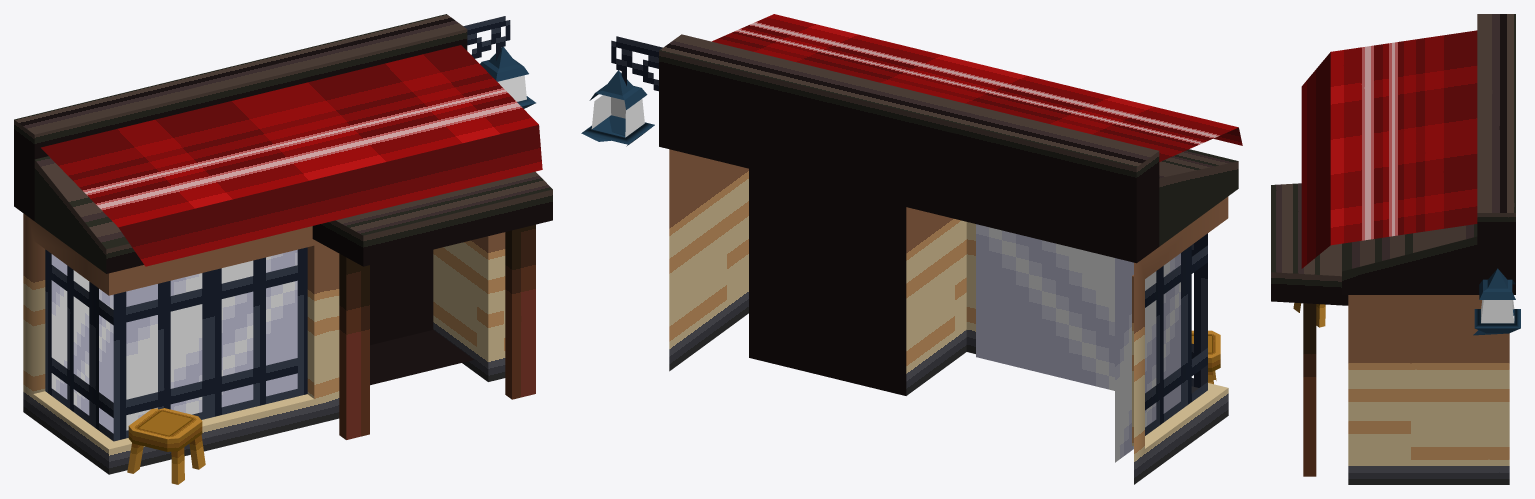
The model's file is pokeblackcafeexterior.fbx.
3 views of the same model, side by side, from view 1: azimuth 30°, elevation 25°; view 2: azimuth 150°, elevation 25°; view 3: azimuth 270°, elevation 25° (orthographic). The views are drawn at different scales.
Parts seen in each view (by area): view 1: Cafe Warehouse; view 2: Cafe Warehouse; view 3: Cafe Warehouse.
Part boxes in pixels (<box>): Cafe Warehouse: <box>14,14,552,484</box>; Cafe Warehouse: <box>581,14,1242,484</box>; Cafe Warehouse: <box>1271,14,1520,484</box>.
Bounding box in the file's own units: 8445 × 4701 × 3876.
